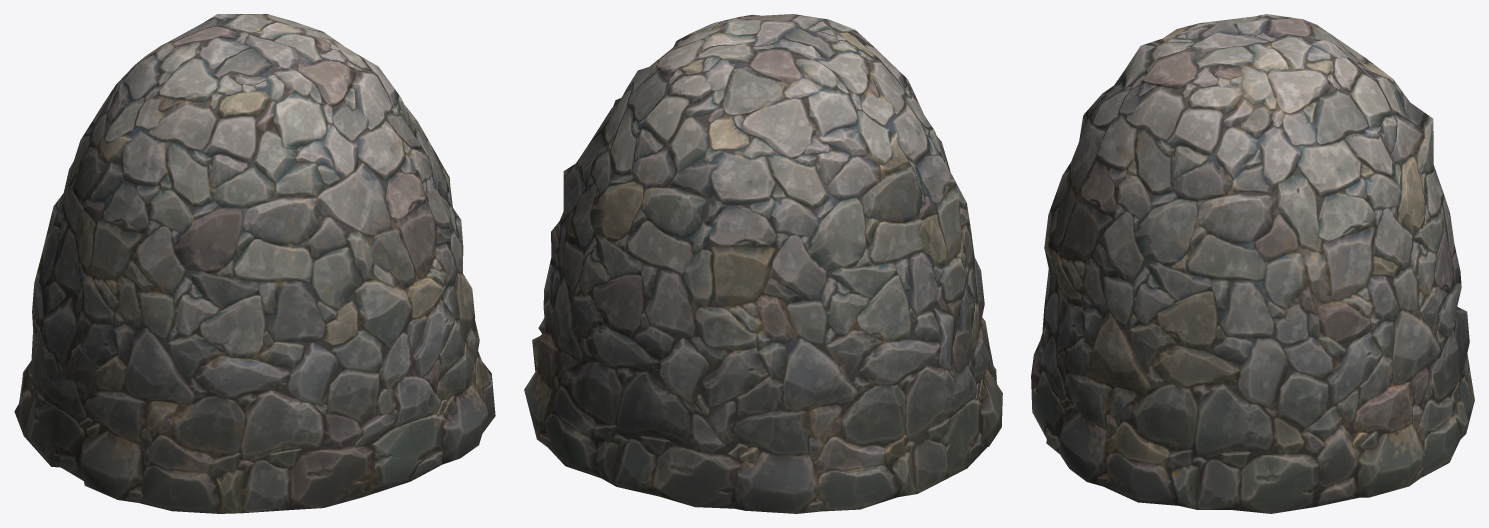
File: Stonepagoda.fbx
3 renders of one model, left to right at view 1: azimuth 30°, elevation 25°; view 2: azimuth 150°, elevation 25°; view 3: azimuth 270°, elevation 25°, orthographic.
Visible parts, largest first — view 1: Stonepagoda1; view 2: Stonepagoda1; view 3: Stonepagoda1.
Boxes of the visible parts, x1,y1,x2,y2 form: Stonepagoda1: [14, 14, 495, 513]; Stonepagoda1: [524, 14, 1002, 513]; Stonepagoda1: [1031, 14, 1474, 513].
Bounding box in the file's own units: 301 × 264 × 280.
